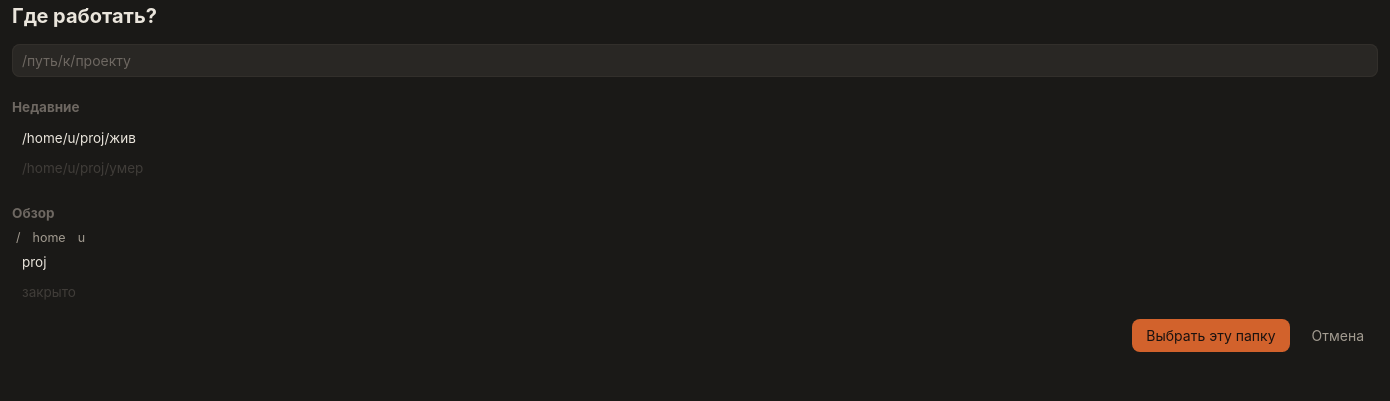
Test case: WorkspacePicker › ошибка создания рисуется инлайн
Click the button "/home/u/proj/жив" at (79, 138), box [12,123,1378,153]
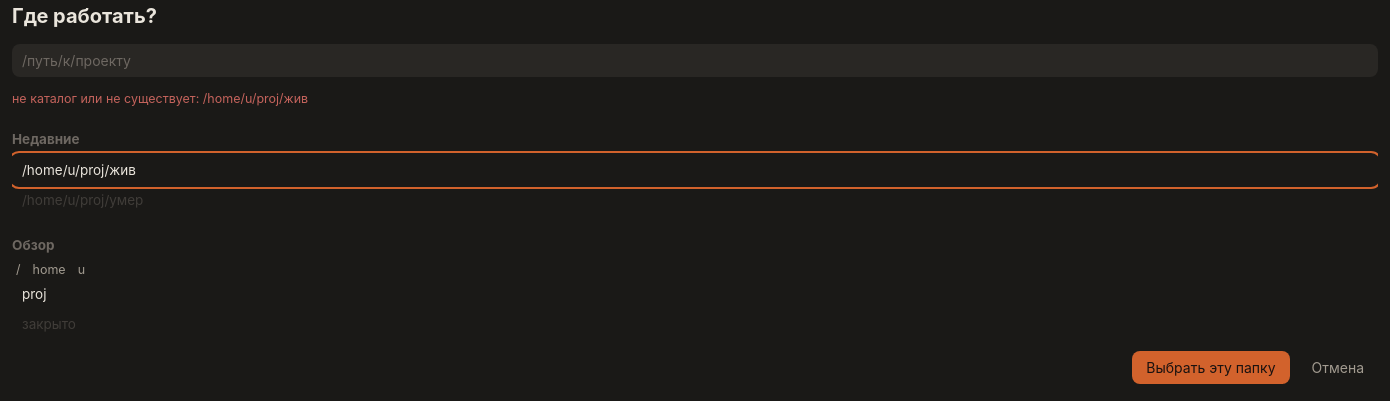
Check: the text "не каталог или не существует: /home/u/proj/жив" is shown, box [12,91,308,106]
